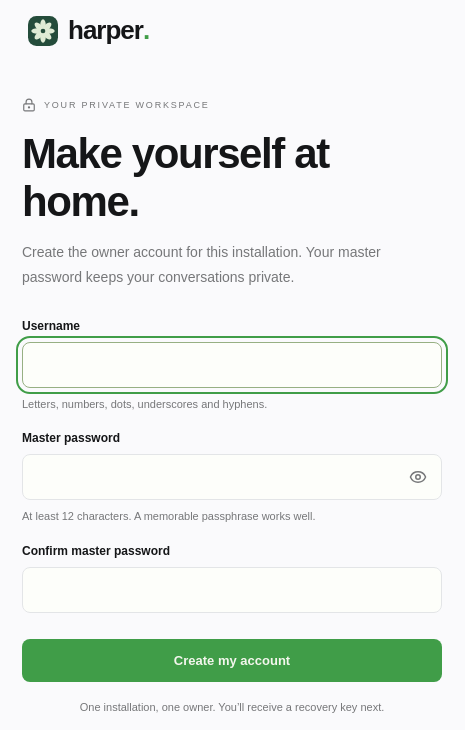
Owner account screens › returns a losing concurrent setup browser to login and keeps the explanation visible
The image size is (465, 730).
Type "owner" into the field with id "username" at coordinates (232, 365), box [22,342,442,388]
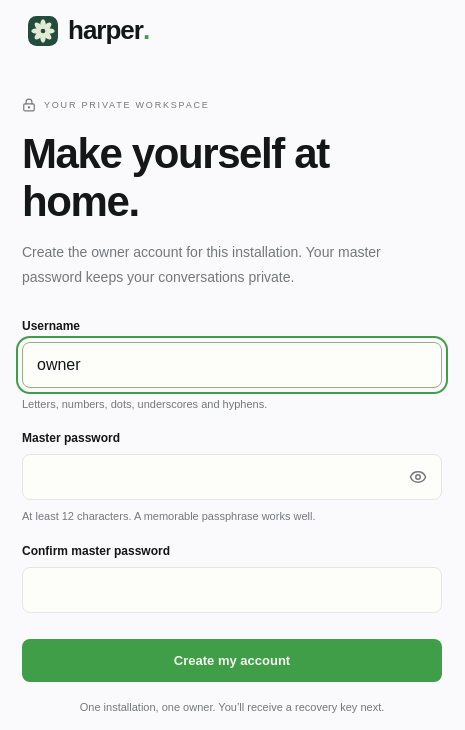
Type "correct horse battery" into the password field labelled "Master password" at coordinates (232, 477), box [22,454,442,500]
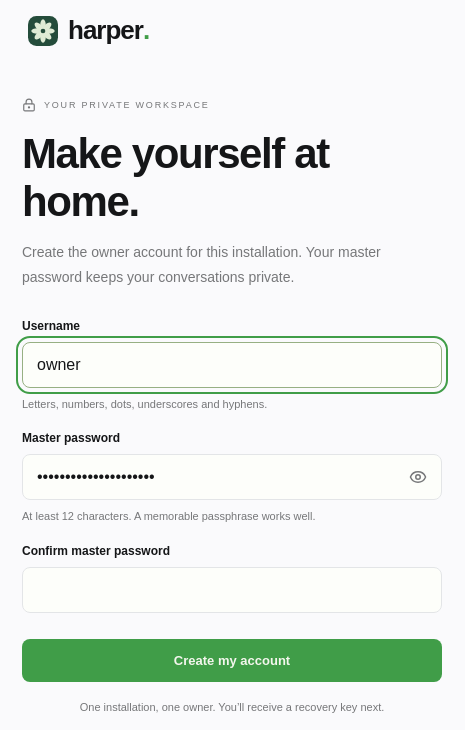
Type "correct horse battery" into the password field with id "confirm-password" at coordinates (232, 590), box [22,567,442,613]
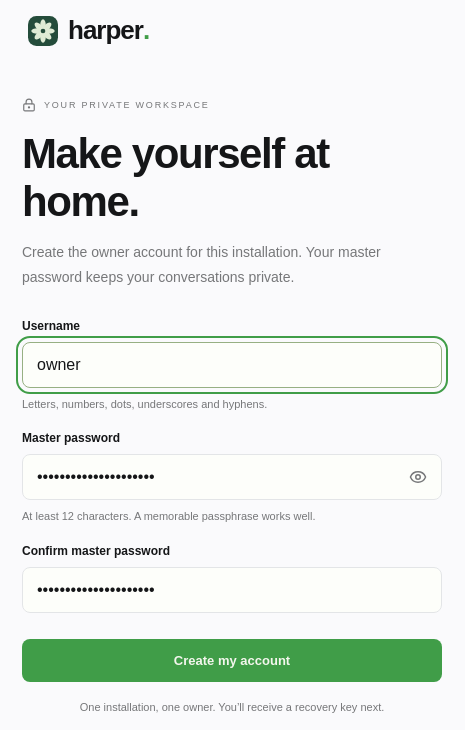
Submit the form with class "auth-form", box [22,319,442,682]
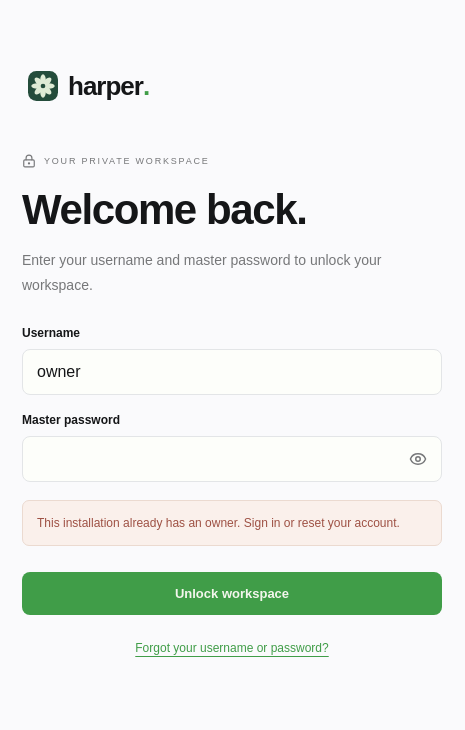
Check: the text "Welcome back." is shown, box [22,186,306,233]
Check: the message with class "auth-error" shows "already has an owner", box [37,516,400,530]
Check: the password field labelled "Master password" is empty, box [22,436,442,482]
